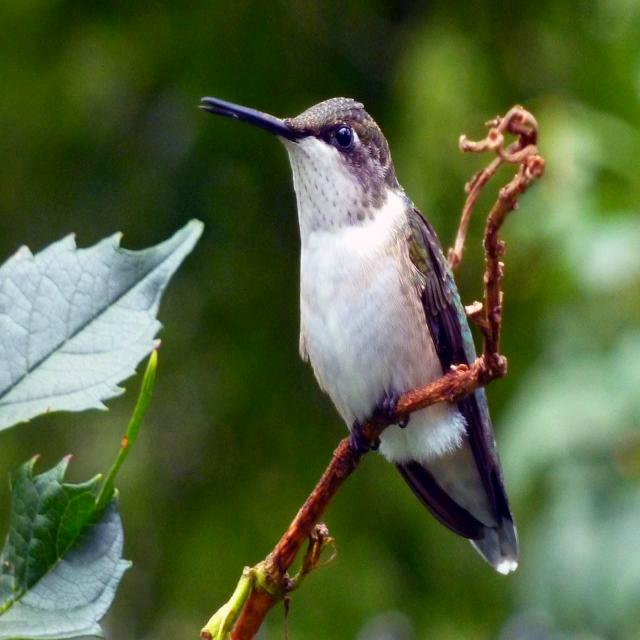hummingbird: (200, 97, 518, 574)
